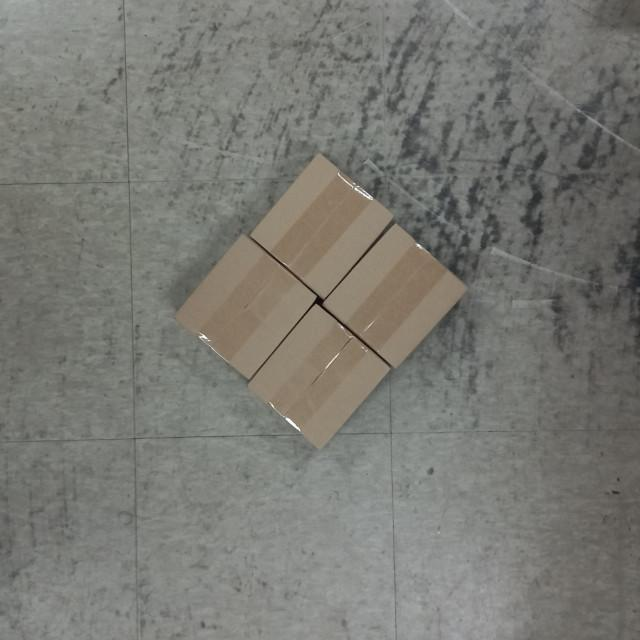box: (240, 147, 402, 307), (165, 228, 324, 383), (244, 298, 398, 455), (316, 218, 472, 372)
